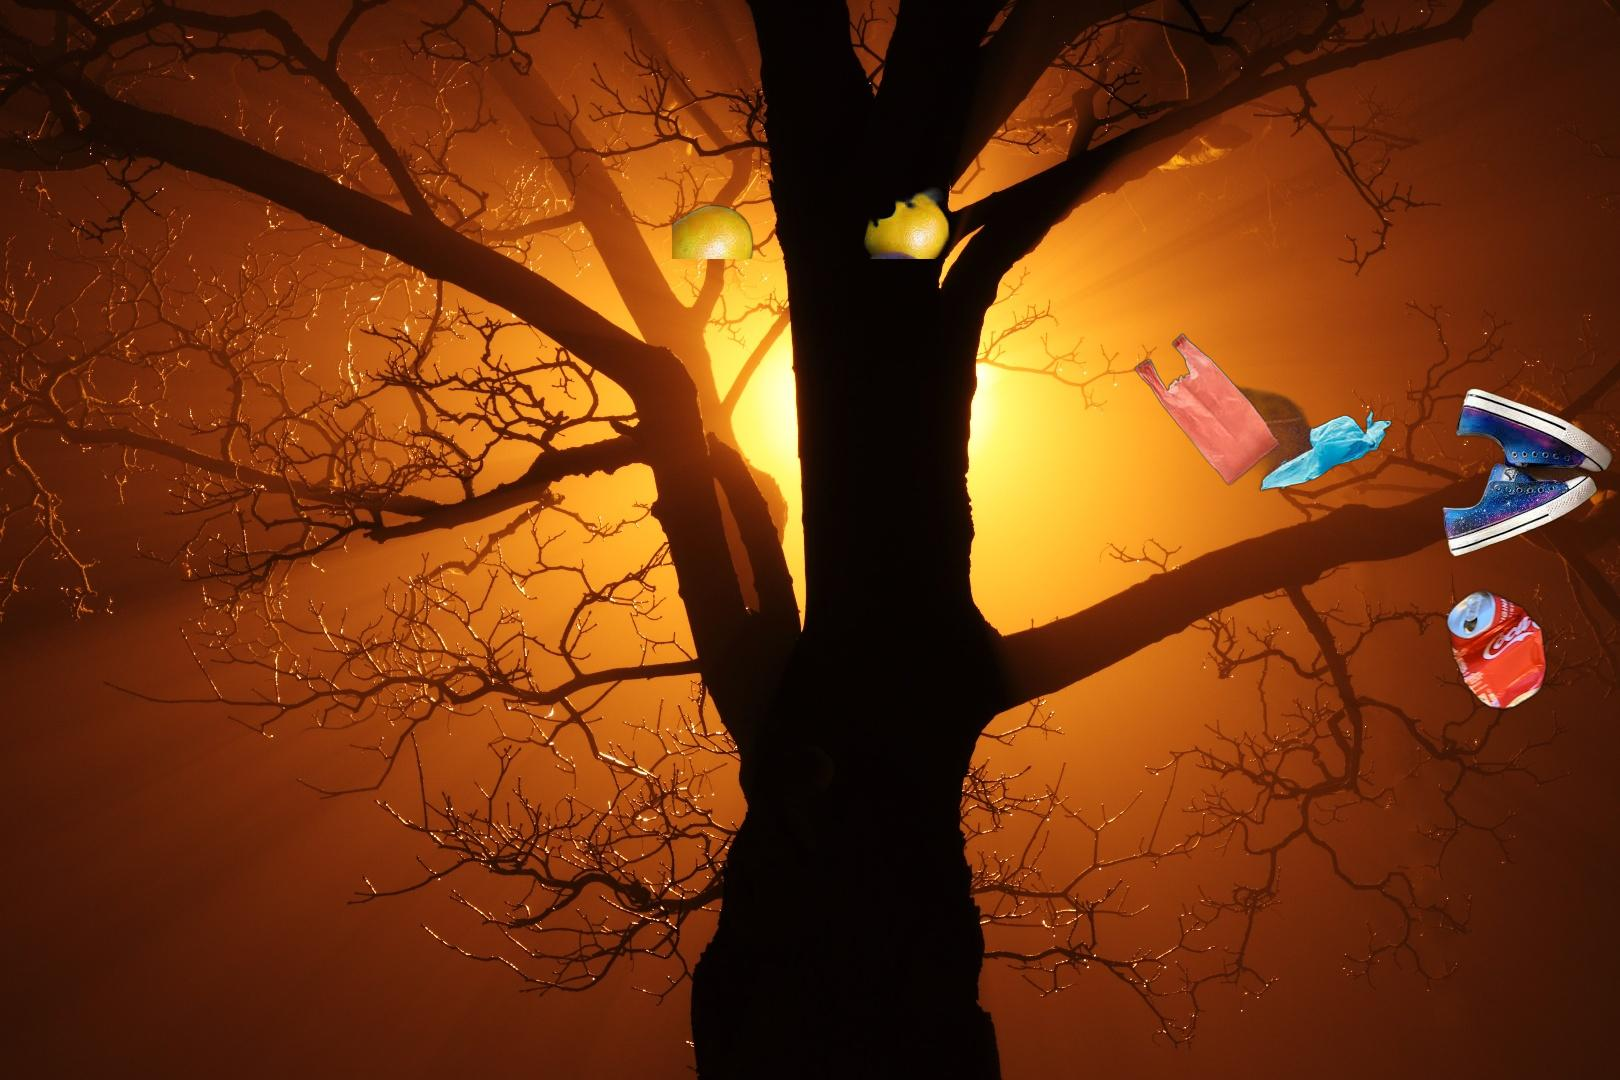biological: (673, 105, 998, 259)
metal-cans: (1442, 585, 1551, 716)
plastic-bag: (1133, 331, 1396, 507)
shoes: (1439, 385, 1615, 560)
